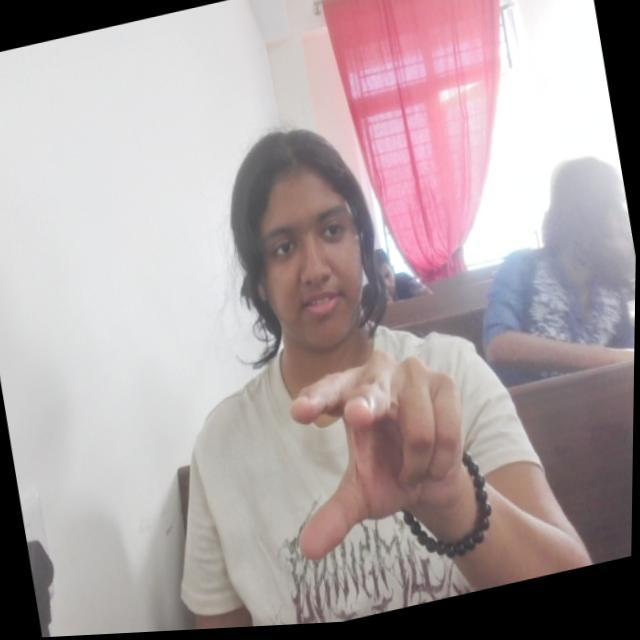no: (263, 334, 489, 574)
